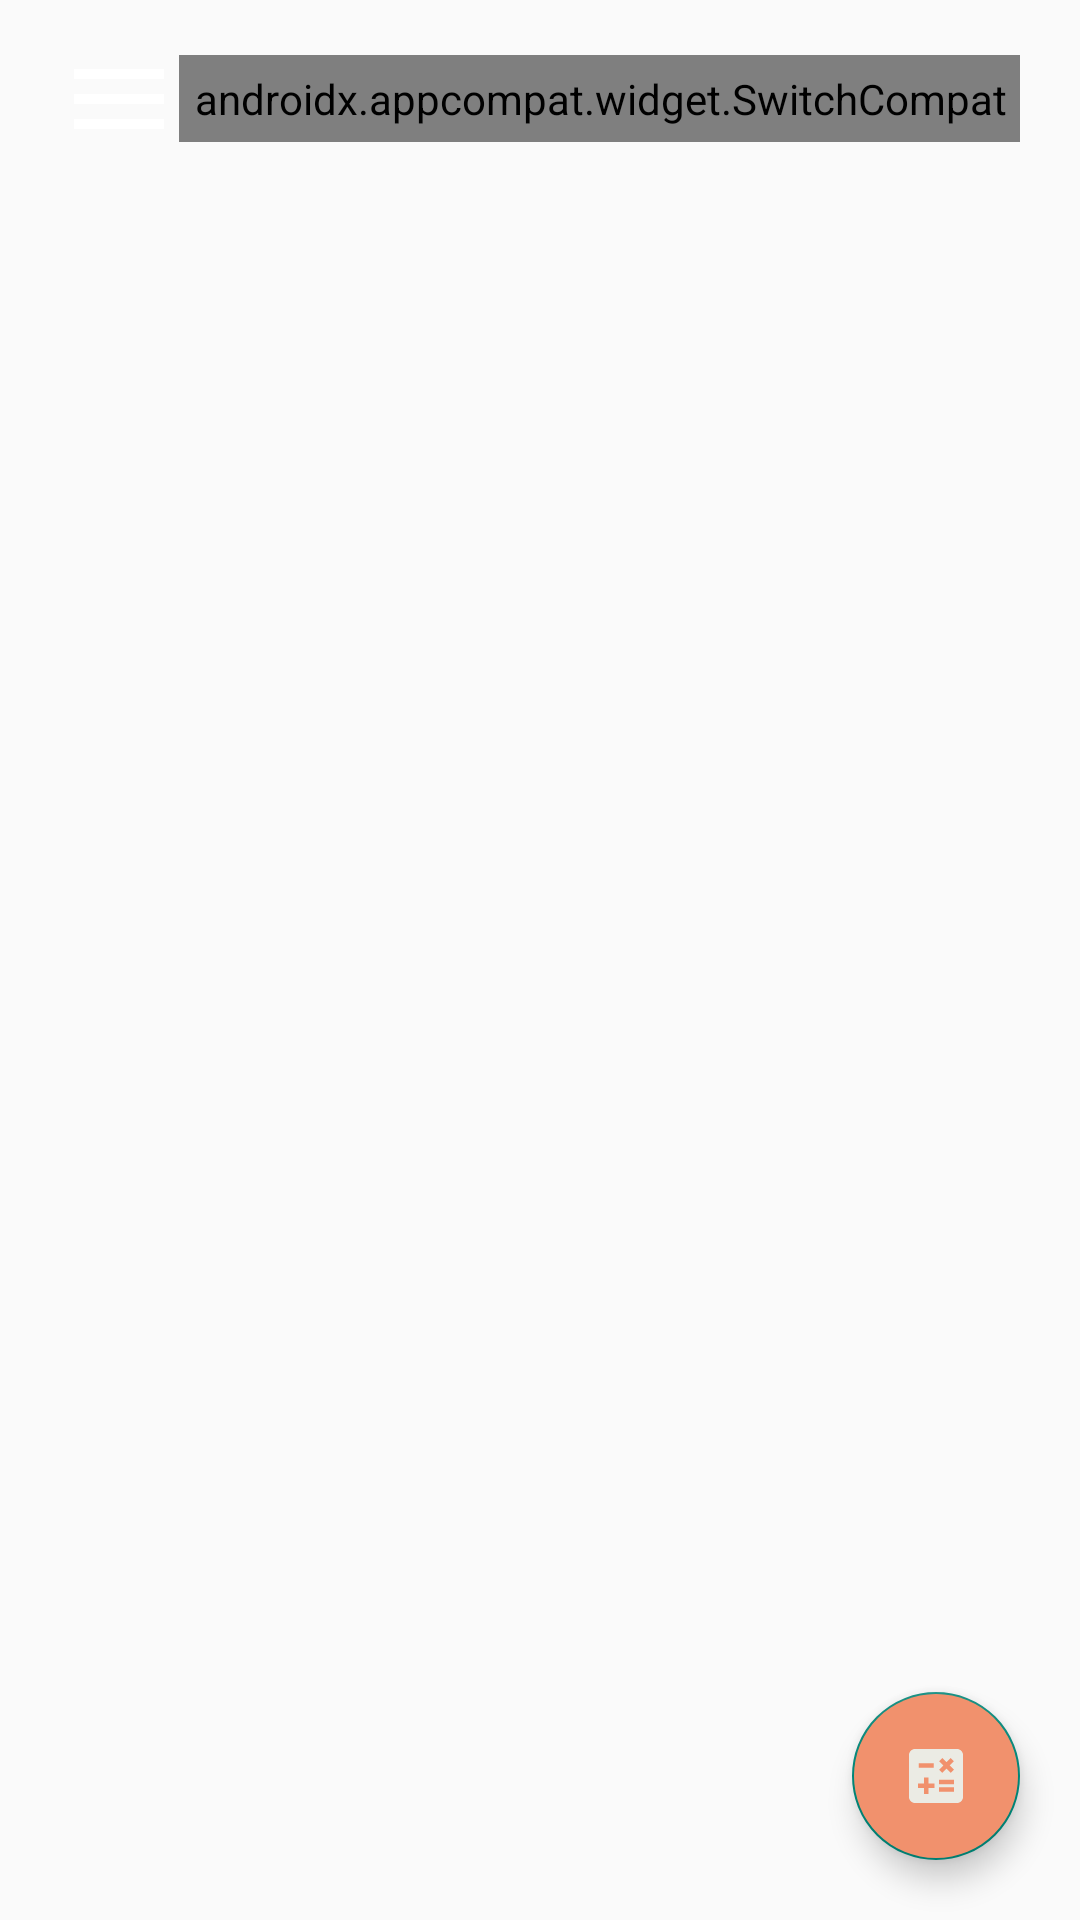

Named icons in this screenshot (1080*1920) and their centers, point (x, y):
Conversion: point (936, 1776)
